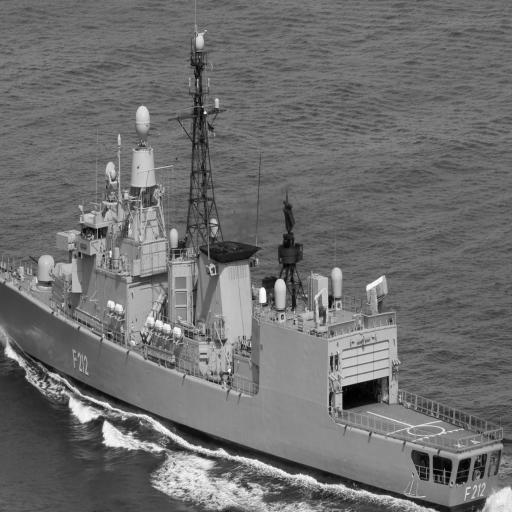Fragata: (1, 5, 509, 512)
